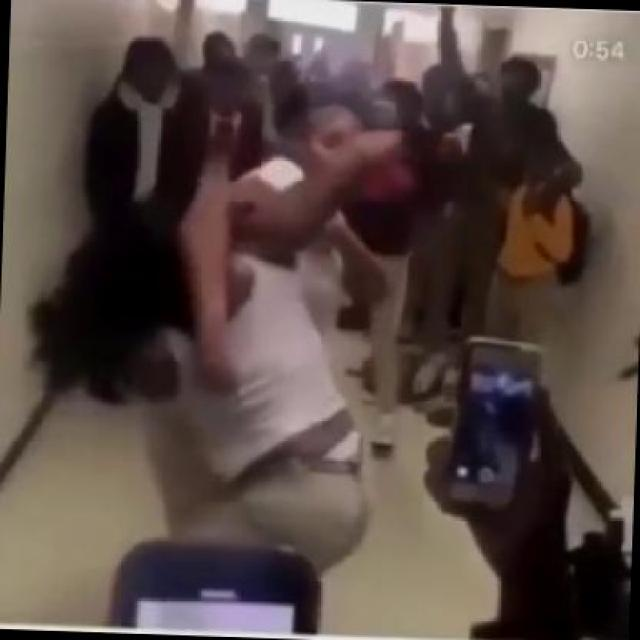fight: (15, 90, 438, 548)
